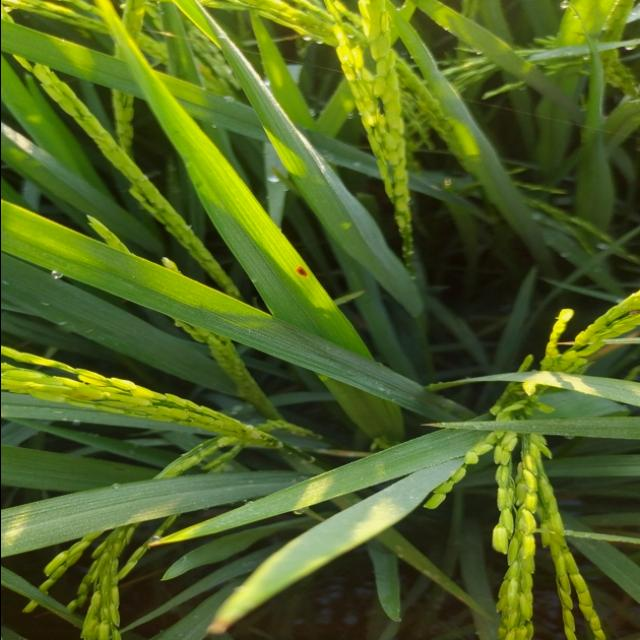insects: (290, 262, 314, 285)
